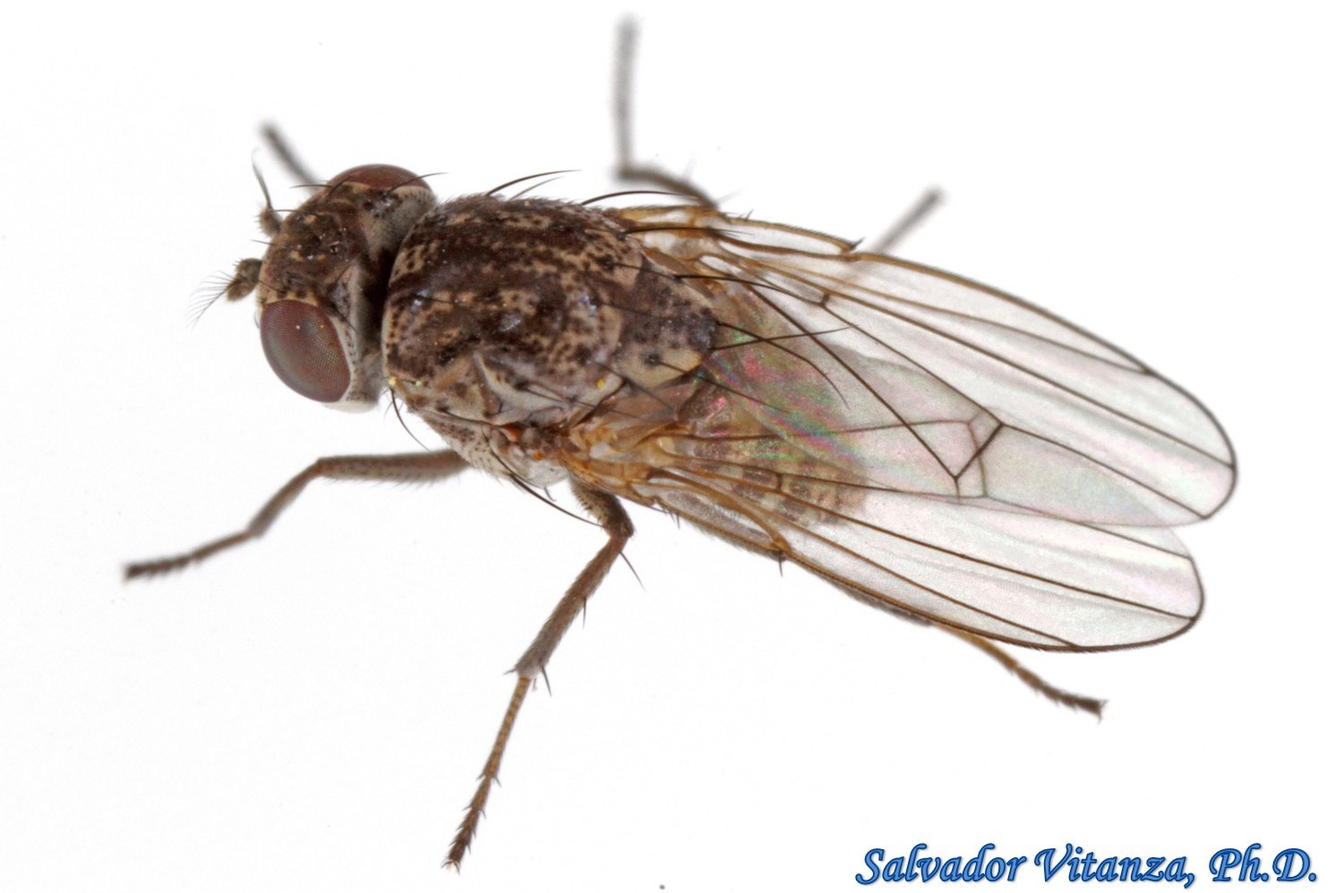Ephydridae: (118, 16, 1235, 866)
